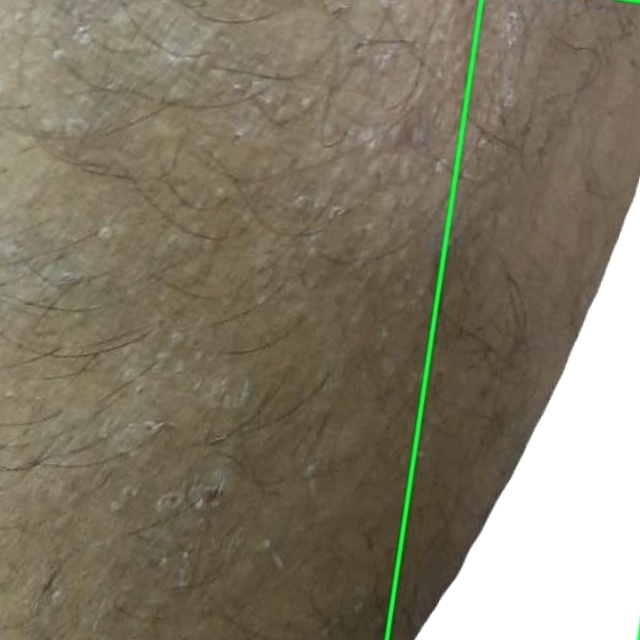Contact Dermatitis: (387, 0, 639, 639)
